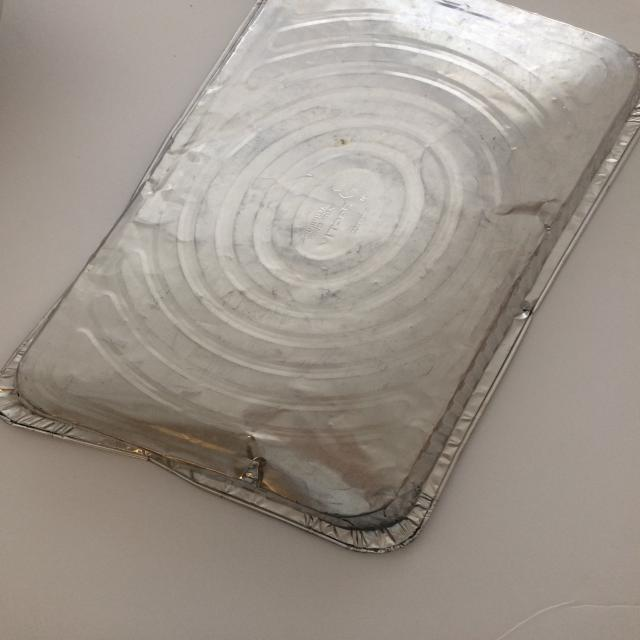metal: (1, 0, 638, 555)
